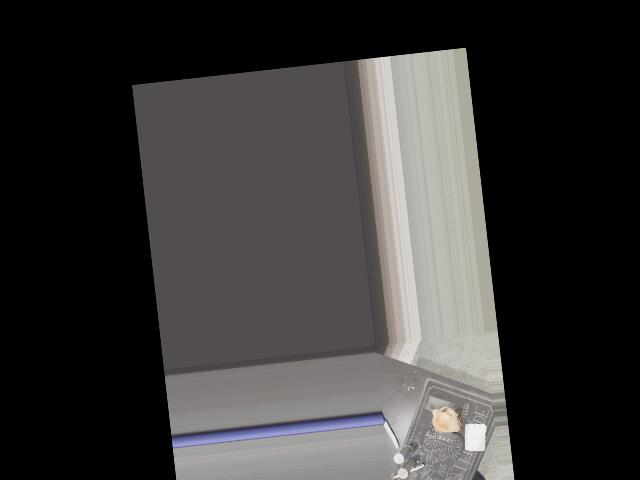onion: (429, 405, 462, 437)
